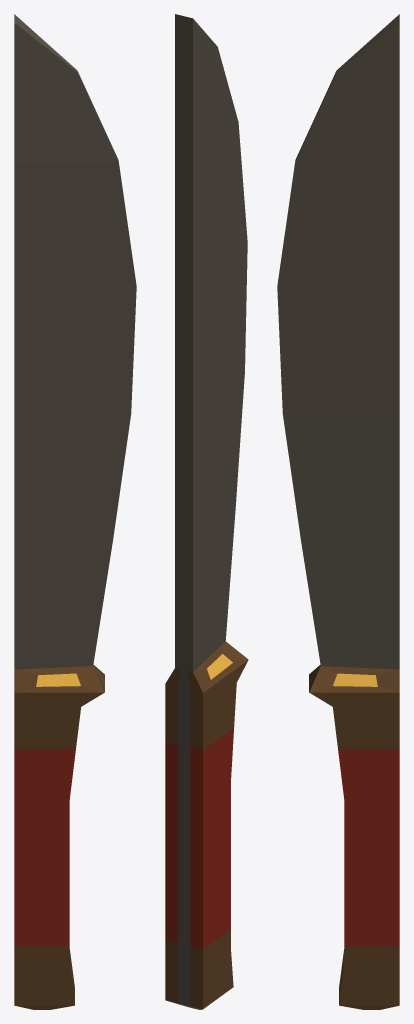
File: Machete_new.fbx
3 views of the same model, side by side, from view 1: azimuth 90°, elevation 25°; view 2: azimuth 150°, elevation 25°; view 3: azimuth 270°, elevation 25° (orthographic).
Visible parts, largest first — view 1: Cube; view 2: Cube; view 3: Cube.
Part boxes in pixels (bbox=[...]): Cube: bbox=[14, 14, 136, 1009]; Cube: bbox=[165, 14, 248, 1009]; Cube: bbox=[277, 14, 399, 1009].
Size of the model in its own units: 0.2781 by 7.04 by 0.7895.
